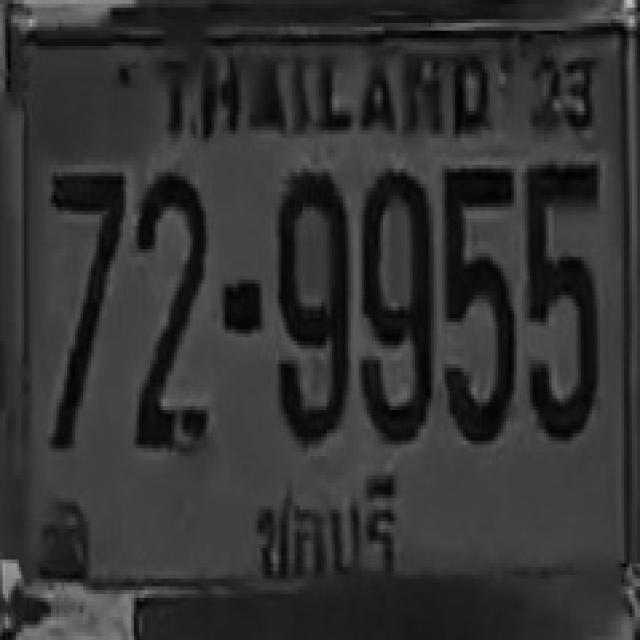2: (132, 170, 208, 447), (134, 170, 206, 424)
5: (524, 161, 598, 441), (443, 165, 516, 441)
7: (48, 166, 123, 446)
9: (359, 166, 431, 442), (276, 170, 348, 442)
Chonburi: (239, 467, 418, 589)
